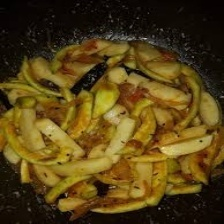sabzi: (0, 36, 224, 218)
